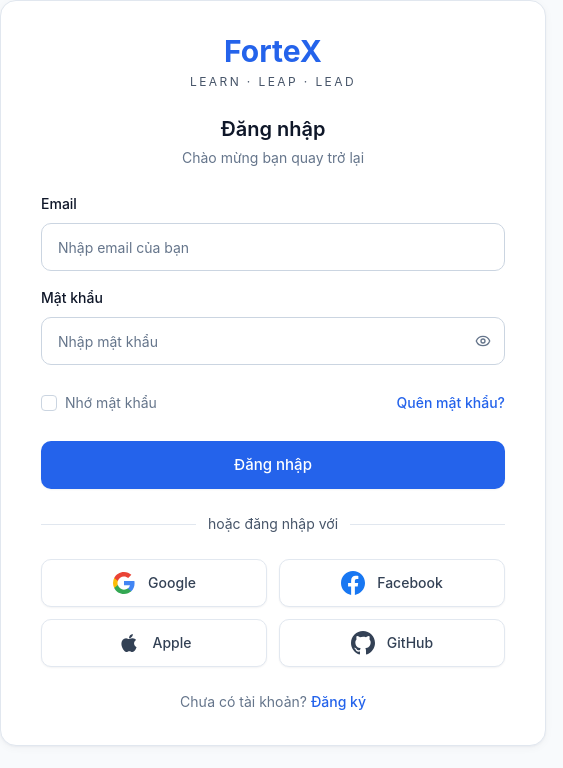
Scenario: LoginPage — validate tiếng Việt › gửi trống: báo thiếu email và mật khẩu, không gọi API
The width and height of the screenshot is (563, 768).
Click the button "Đăng nhập": (273, 465) [41,441,505,489]
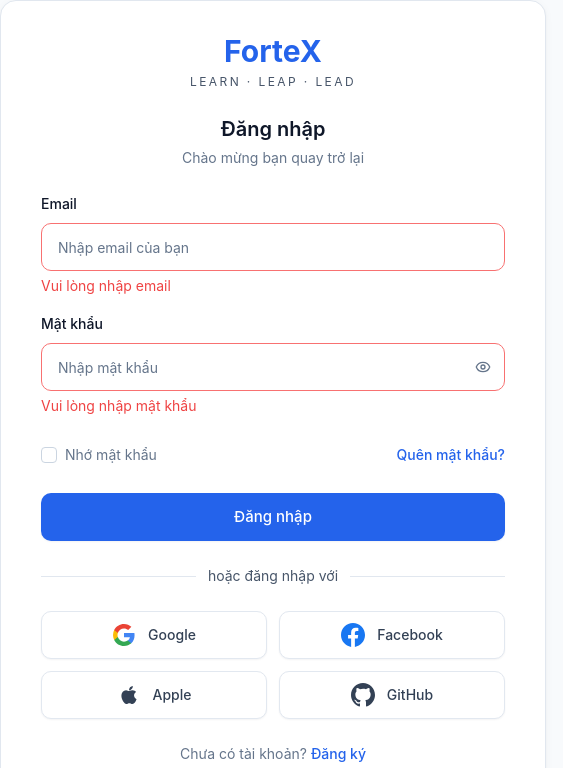
expect the text "Vui lòng nhập email" is shown: met, box [41,277,171,294]
expect the text "Vui lòng nhập mật khẩu" is shown: met, box [41,397,196,414]
